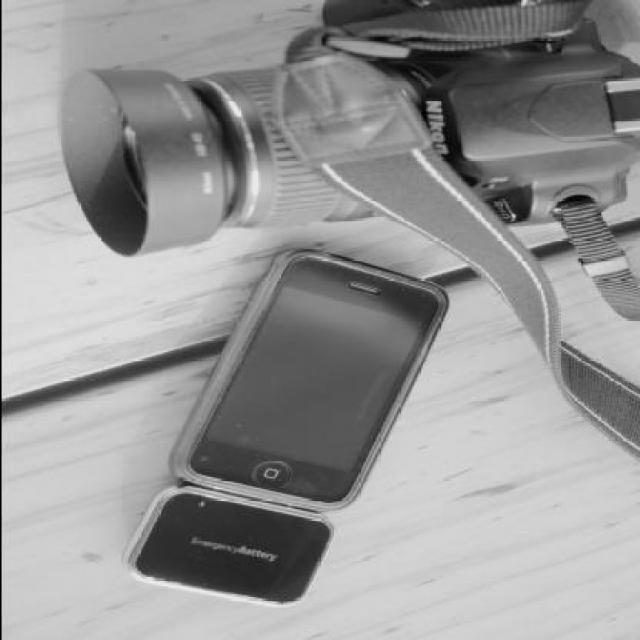fake: (147, 243, 461, 554)
